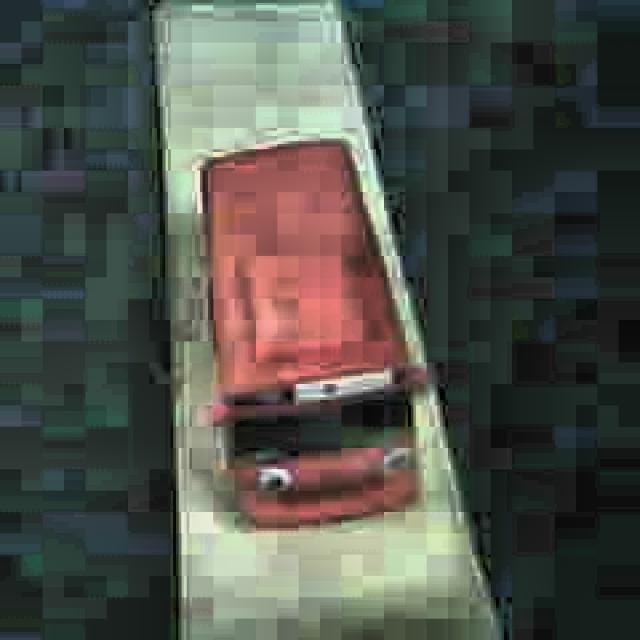bus: (199, 137, 430, 536)
